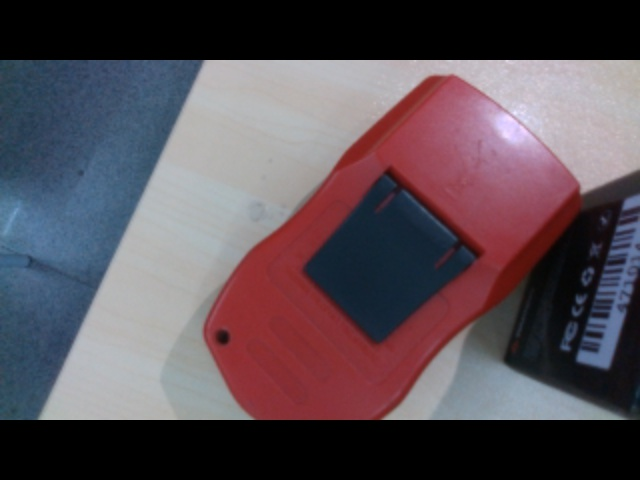Multimeter: (202, 75, 582, 418)
Screw holes: (214, 328, 230, 345)
